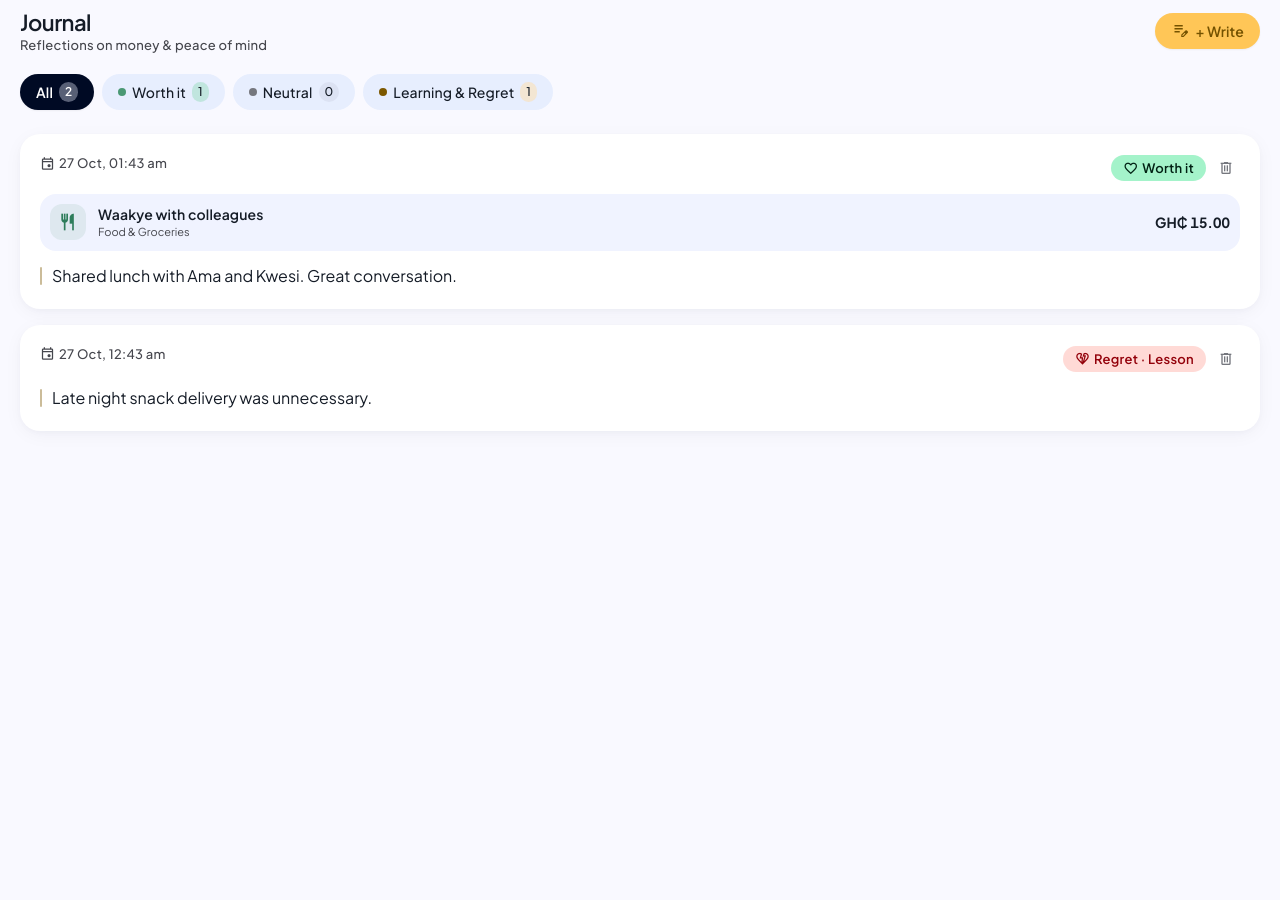
Test: Component: JournalView › allows writing a standalone reflection without a transaction
This screenshot has width=1280, height=900.
Check: the text "Shared lunch with Ama and Kwesi. Great conversation." is shown, box [52, 264, 457, 286]
// Click "+ Write"
Click the button "+ Write" at (1208, 31), box [1155, 13, 1260, 49]
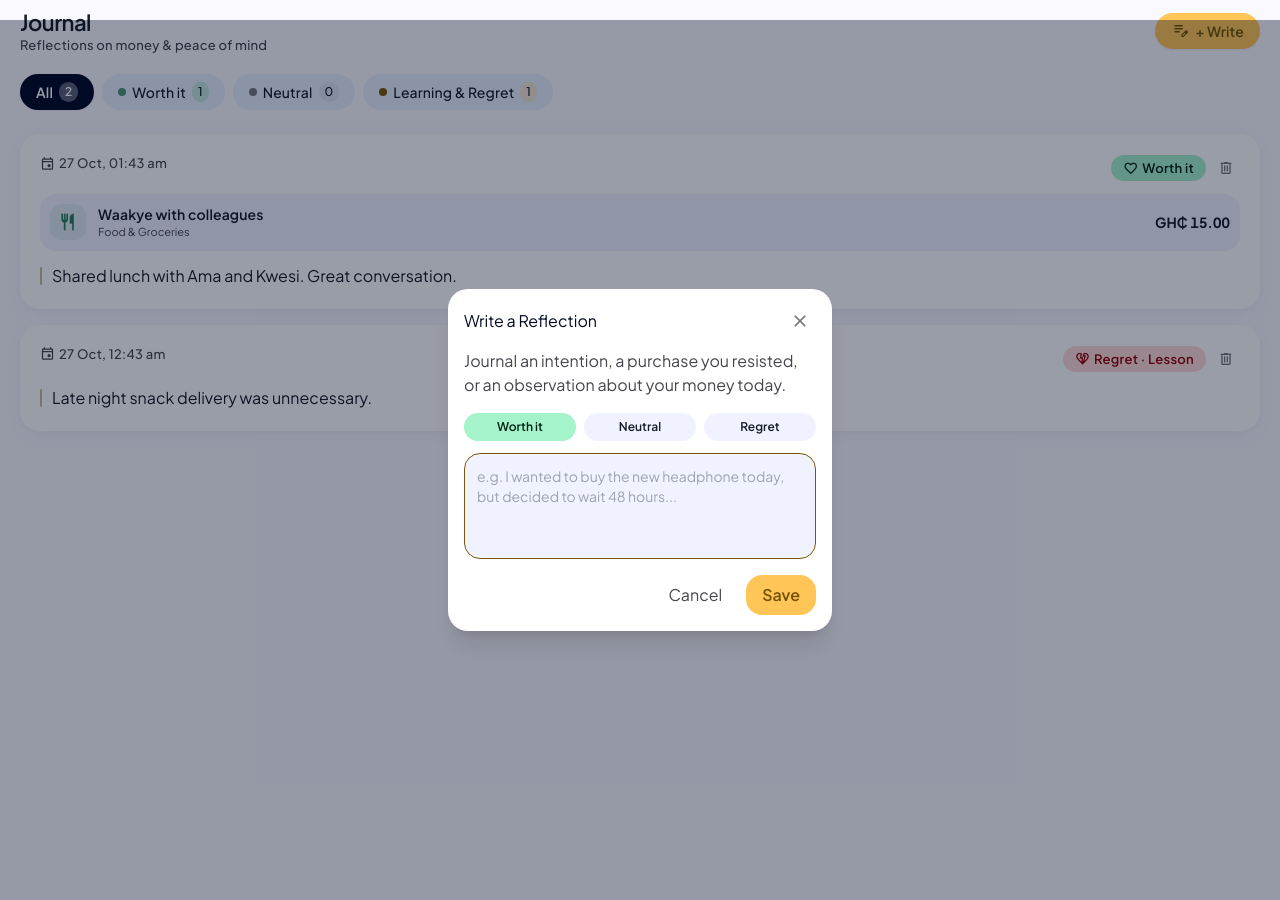
// Type text in textarea
Replace the text in the text box with placeholder "I wanted to buy the new headphone" with "Resisted buying an impulse gadget today!" at (640, 506), box [464, 453, 816, 559]
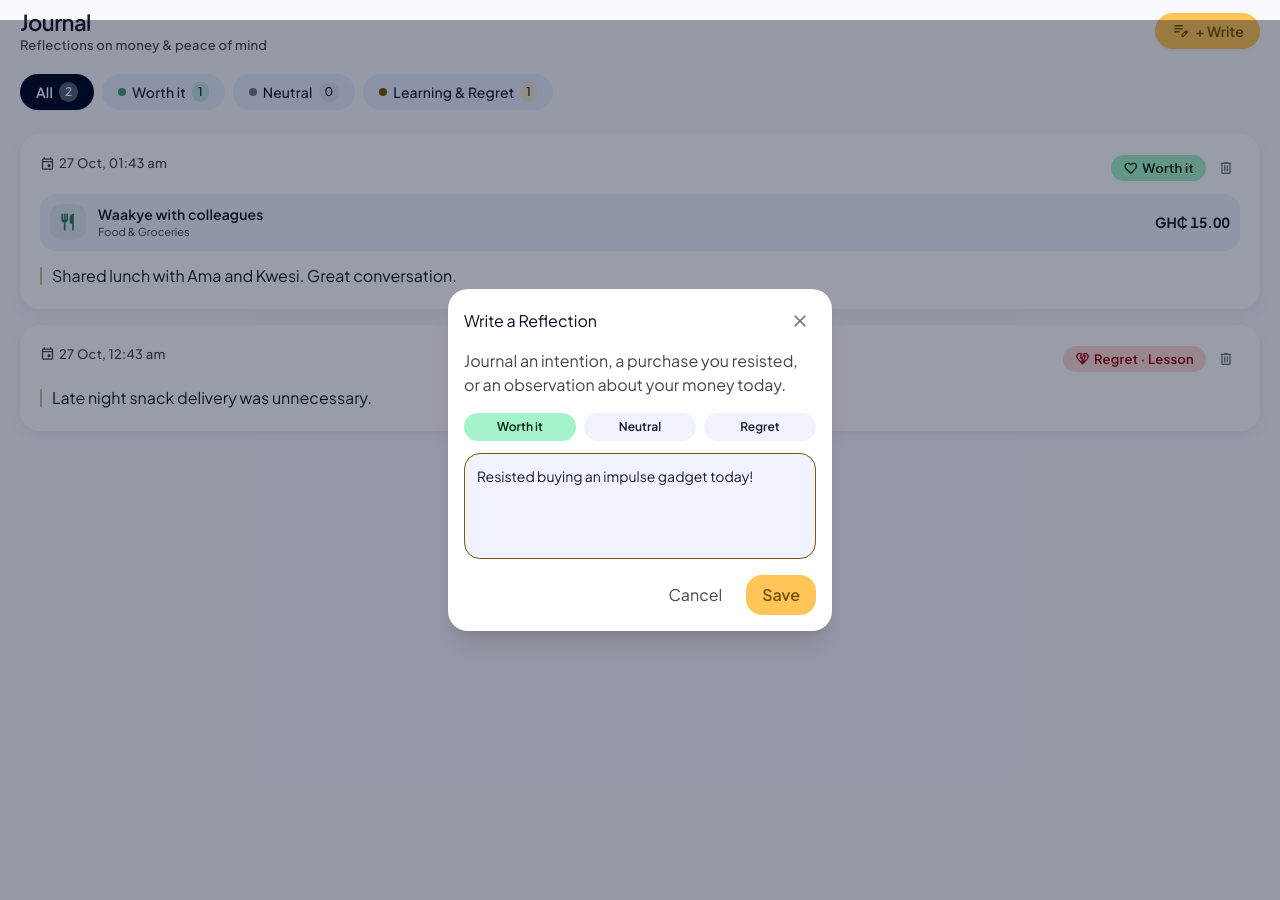
Click the button "Save" at (781, 595), box [746, 575, 816, 615]
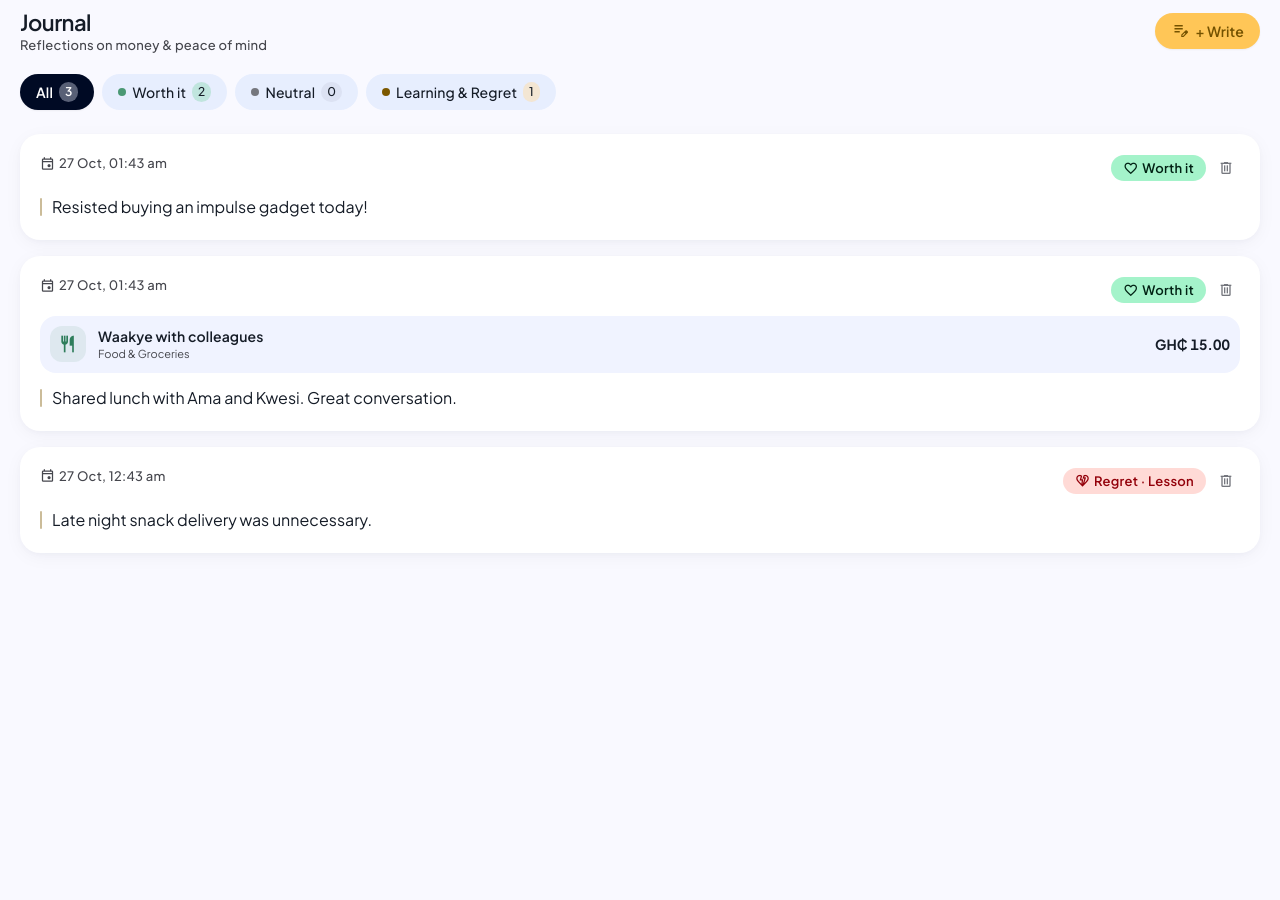
Check: the text "Resisted buying an impulse gadget today!" is shown, box [52, 196, 368, 217]
